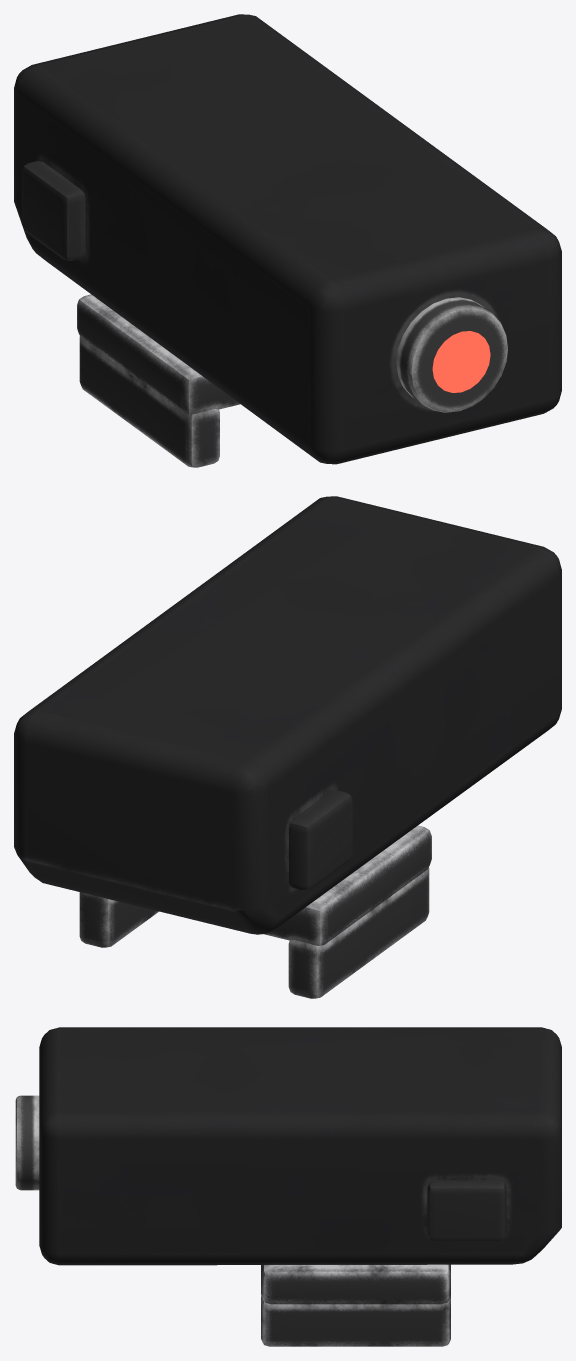
Rendered from laser_compact.glb.
3 renders of one model, top to bottom at view 1: azimuth 30°, elevation 25°; view 2: azimuth 150°, elevation 25°; view 3: azimuth 270°, elevation 25°, orthographic. The views are drawn at different scales.
Visible parts, largest first — view 1: body, laser_lens; view 2: body; view 3: body.
Part boxes in pixels (x1,y1,x2,y2): body: [14, 14, 561, 467]; laser_lens: [432, 331, 490, 392]; body: [14, 496, 561, 998]; body: [15, 1027, 561, 1346].
Bounding box in the file's own units: 0.035 × 0.032 × 0.0692.
2 materials, 1 textured.
